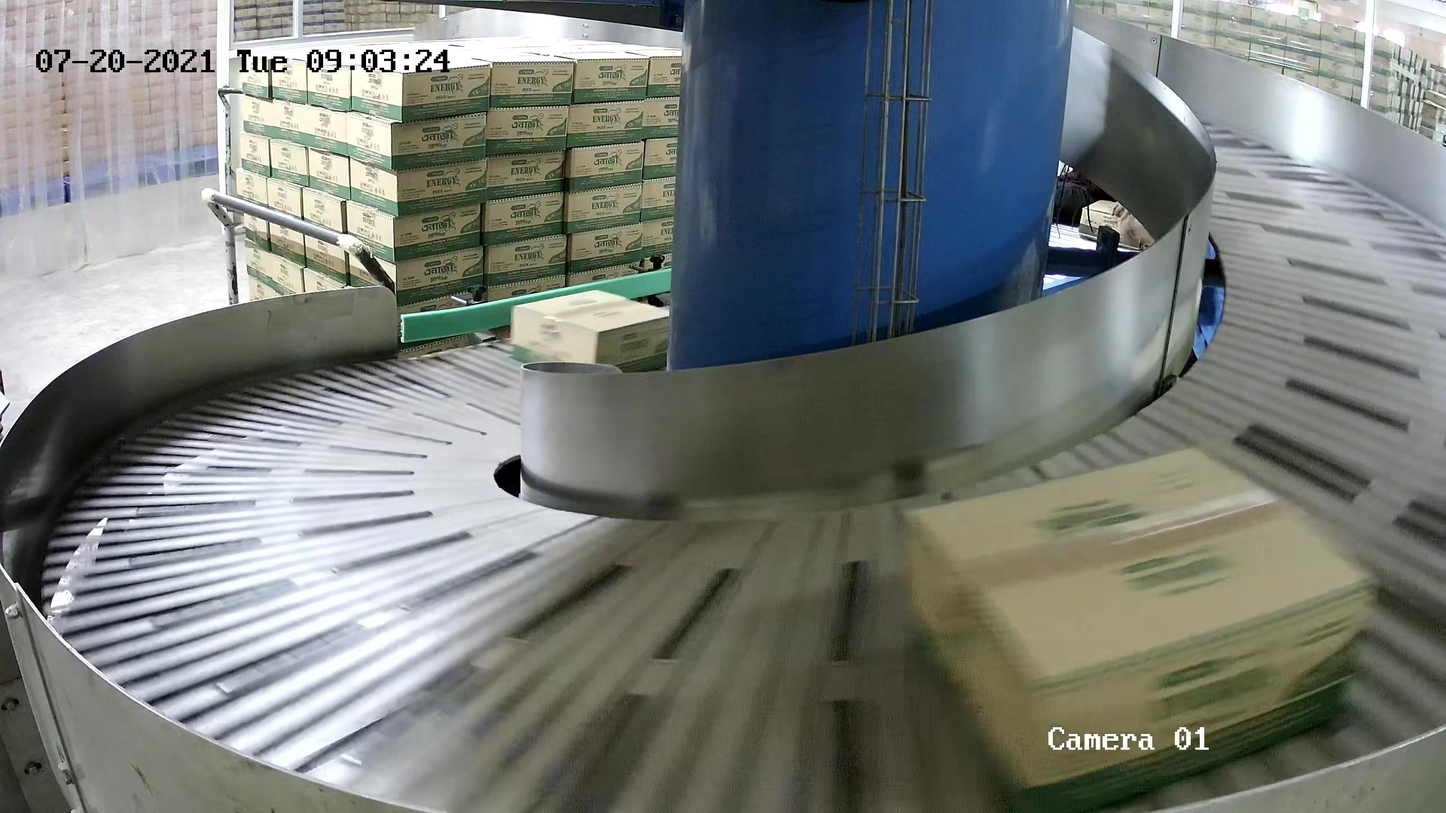Box: (900, 444, 1380, 813), (512, 289, 680, 389)
